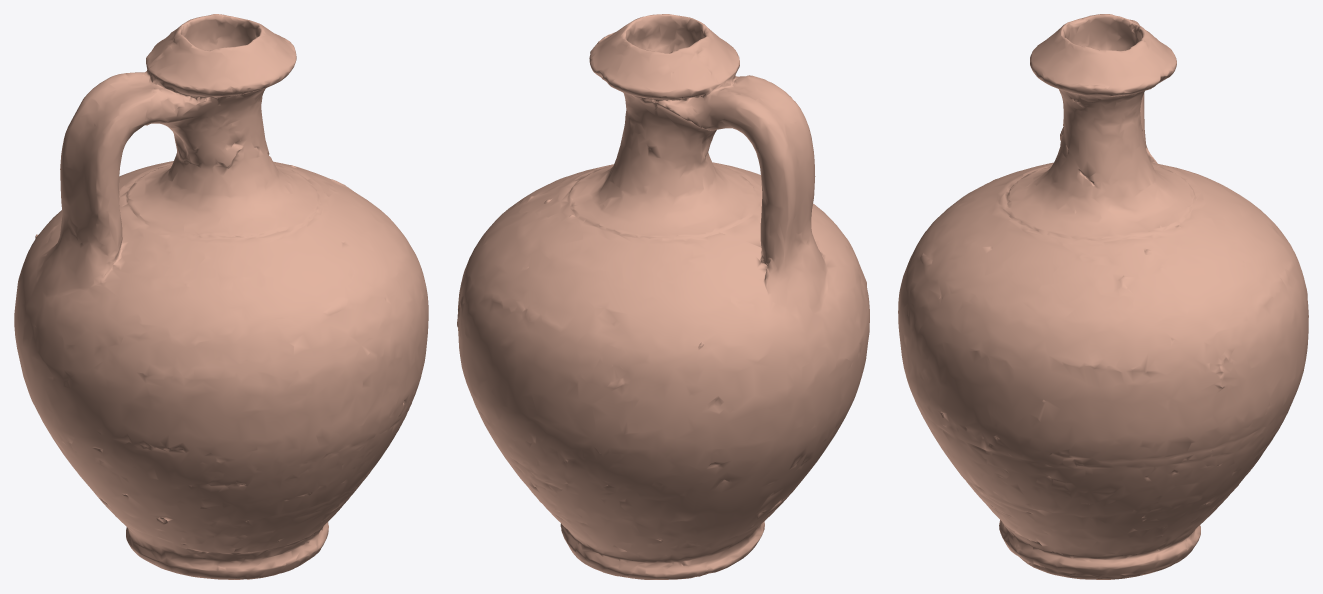
Rendered from wc-roman-pottery-r3997.glb.
3 views of the same model, side by side, from view 1: azimuth 30°, elevation 25°; view 2: azimuth 150°, elevation 25°; view 3: azimuth 270°, elevation 25° (orthographic).
Parts seen in each view (by area): view 1: wc-roman-pottery-r3997; view 2: wc-roman-pottery-r3997; view 3: wc-roman-pottery-r3997.
Part boxes in pixels (box(x1,y1,x2,y2)): wc-roman-pottery-r3997: box(14, 14, 428, 579); wc-roman-pottery-r3997: box(457, 14, 869, 579); wc-roman-pottery-r3997: box(898, 14, 1308, 579).
Bounding box in the file's own units: 0.1828 × 0.25 × 0.183.
